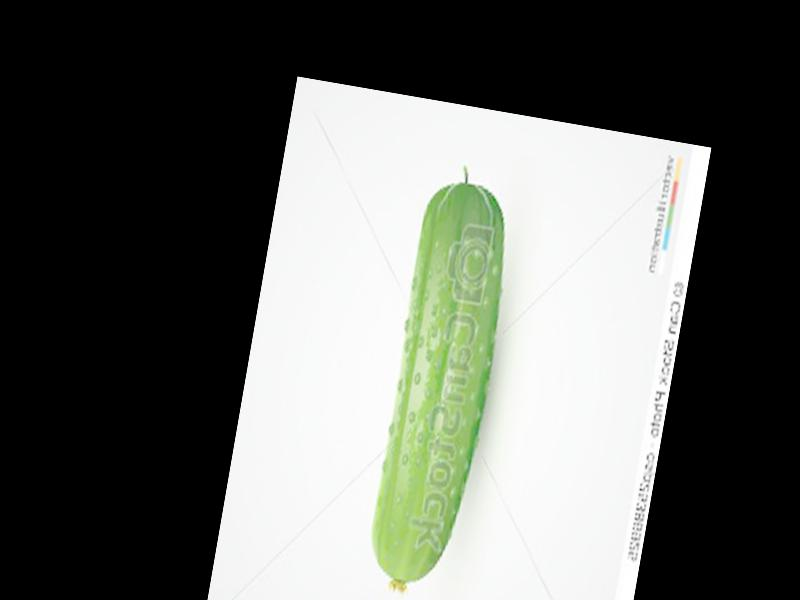Cucumber: (358, 159, 522, 600)
